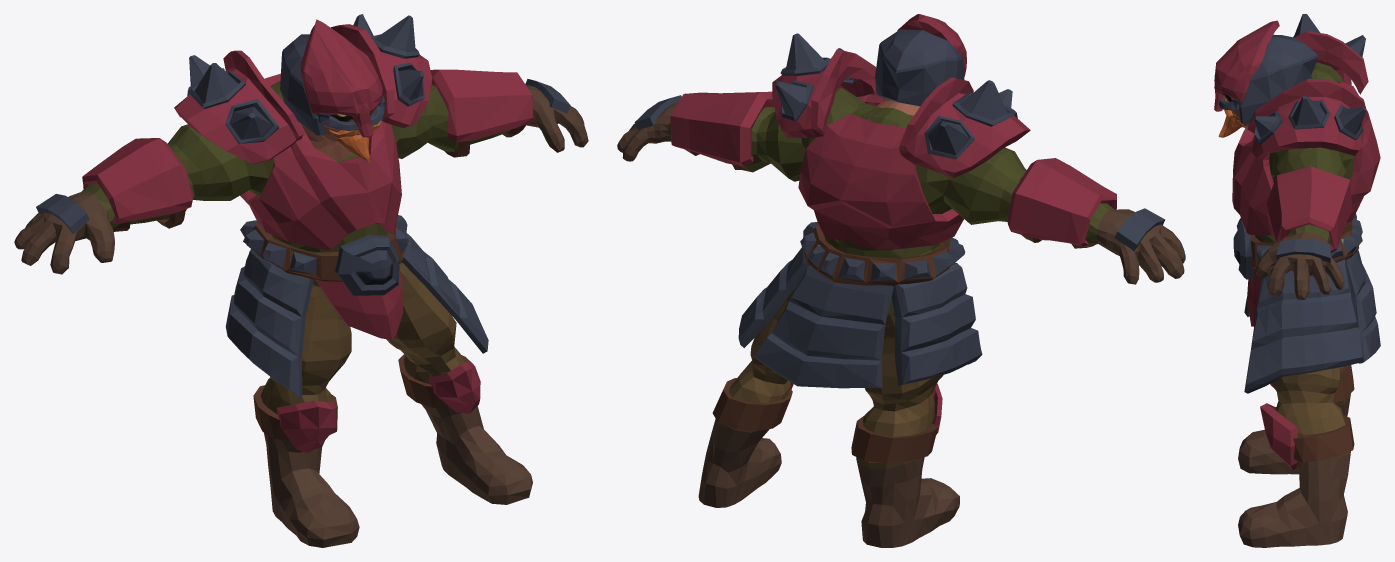
File: LoganCGDance2.obj
3 renders of one model, left to right at view 1: azimuth 30°, elevation 25°; view 2: azimuth 150°, elevation 25°; view 3: azimuth 270°, elevation 25°, orthographic. The views are drawn at different scales.
Parts seen in each view (by area): view 1: armor_Plane.002; view 2: armor_Plane.002; view 3: armor_Plane.002.
Part boxes in pixels (bbox=[...]): armor_Plane.002: bbox=[14, 14, 588, 547]; armor_Plane.002: bbox=[617, 14, 1185, 547]; armor_Plane.002: bbox=[1214, 14, 1380, 547].
Size of the model in its own units: 1.83 by 1.59 by 0.5442.
3 materials, 3 textured.
